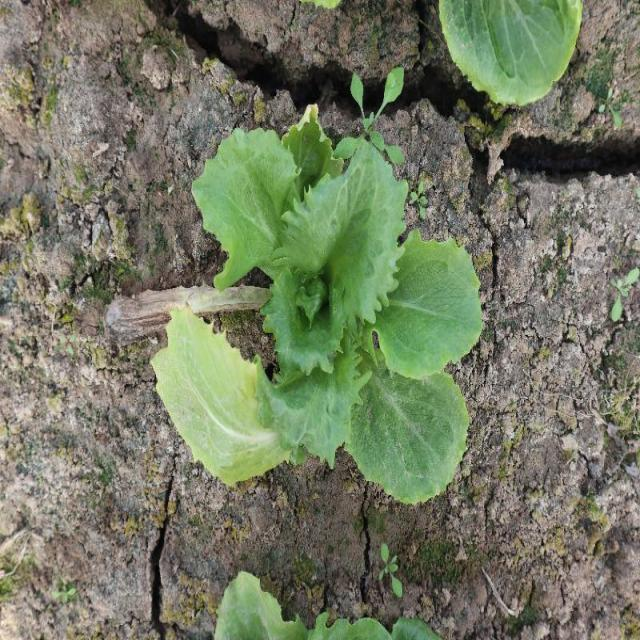crop: (196, 110, 483, 508)
